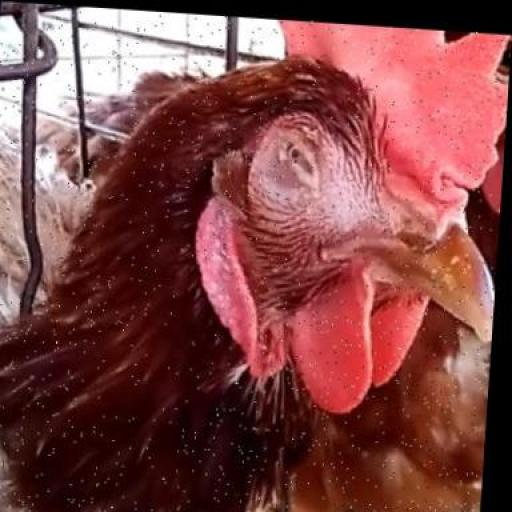disease: (242, 109, 353, 227)
